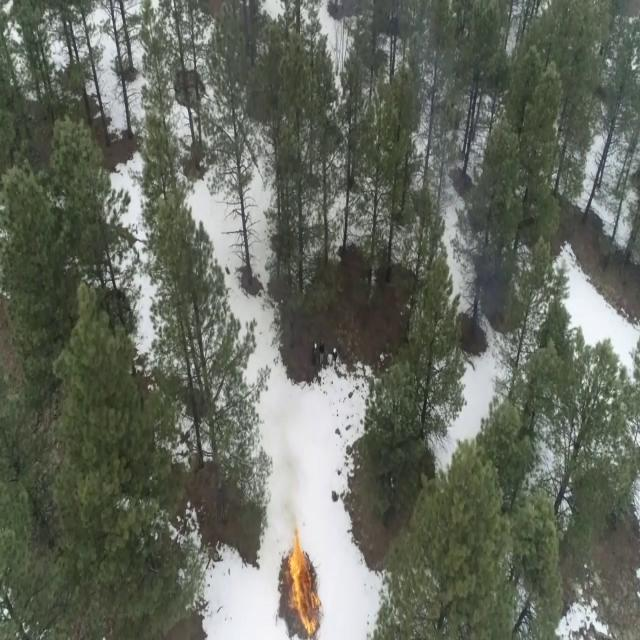fire: (288, 538, 320, 636)
